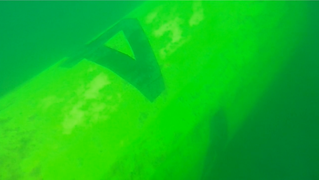4: (58, 16, 166, 101), (200, 107, 228, 180)
pipe: (1, 1, 318, 180)
